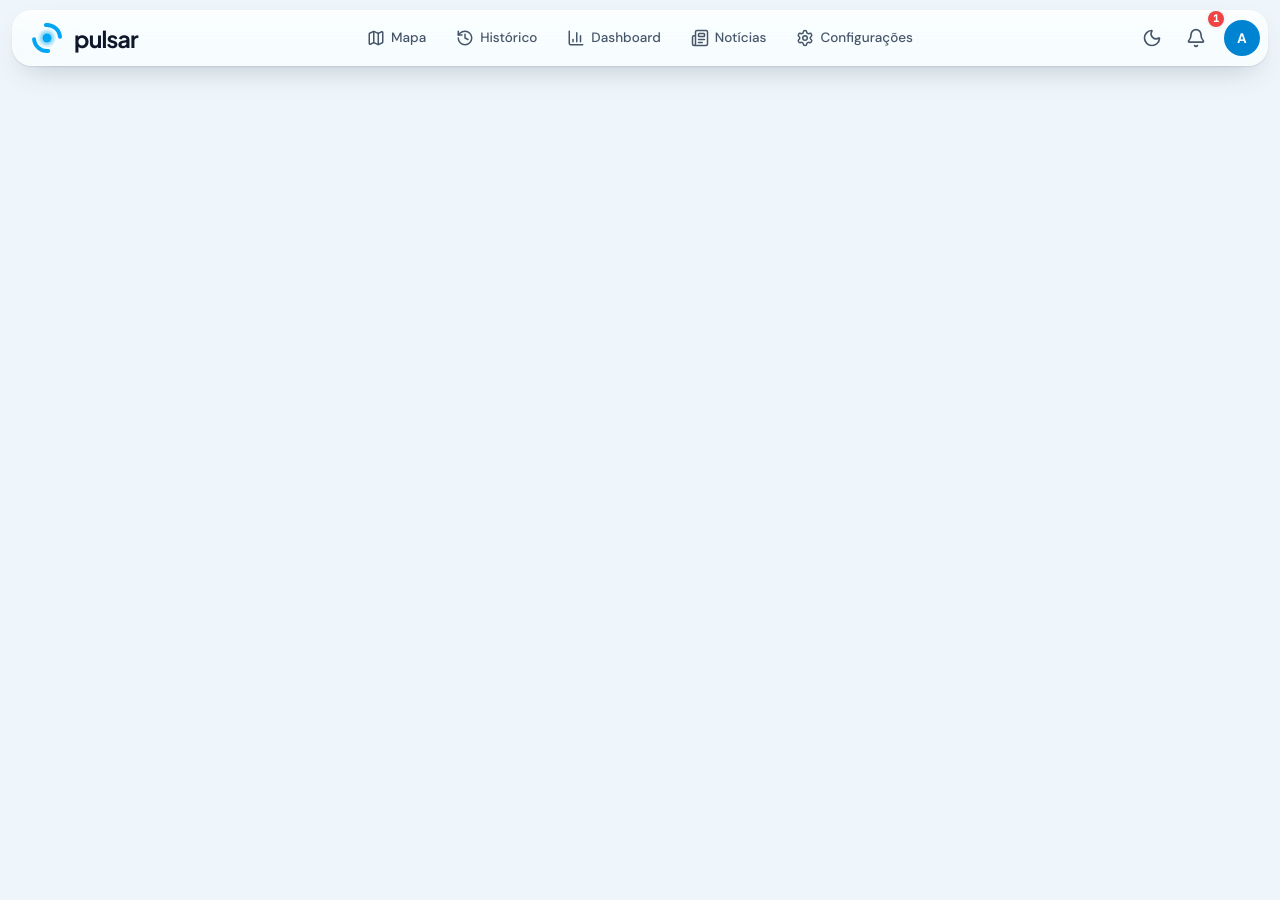
Sino pessoal primeiro › favorita em alto acende o sino
The image size is (1280, 900).
Click the button named "Notificações".
click(1196, 38)  # box [1176,18,1216,58]
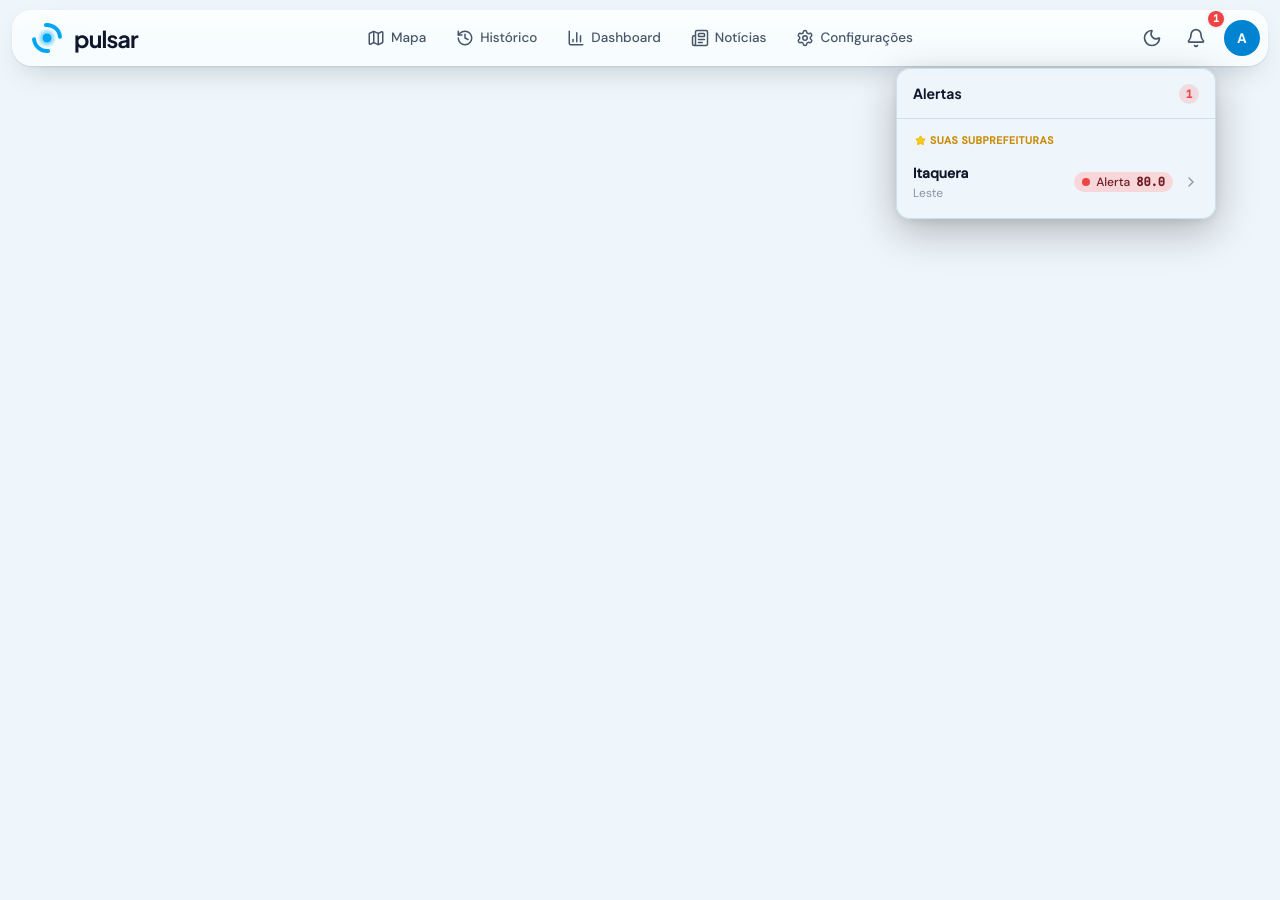
Now the text "Suas subprefeituras" is shown, box [915,134,1054,147]
